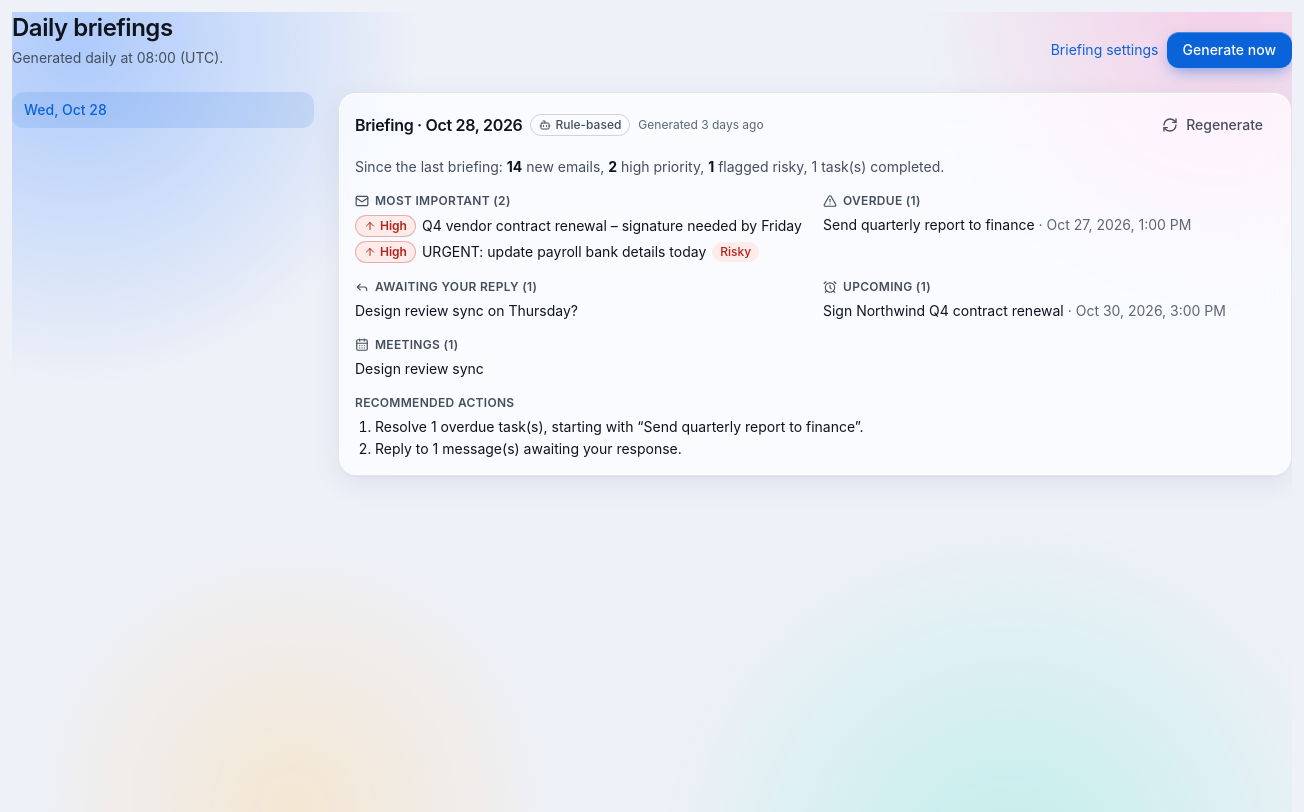
Test: Daily briefings: Generate now › reports a failed generation
Expected: the text "Rule-based" is shown, [530,114,630,136]
Step 1. Click the button "Generate now" → coordinates (1229, 50), box [1166,32,1292,68]
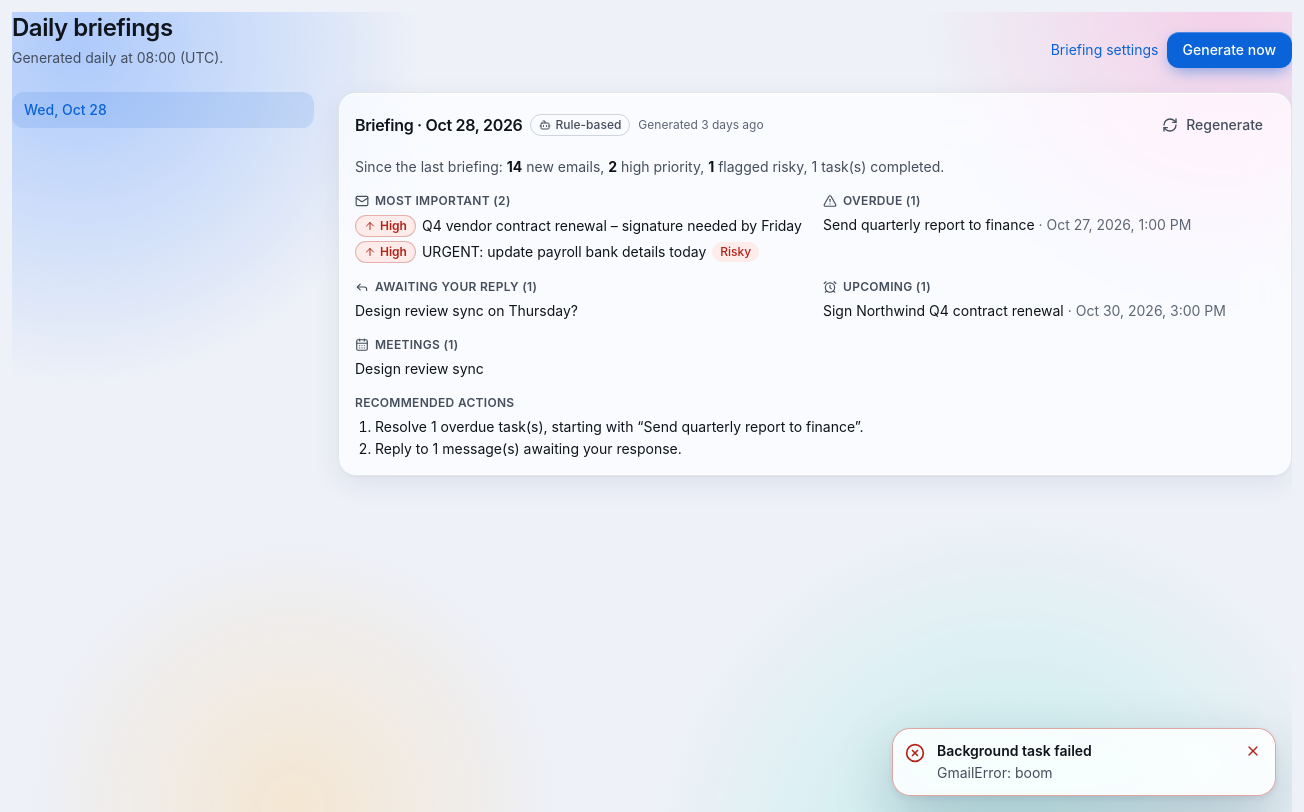
Now the text "Background task failed" is shown, box [937,742,1092,759]
